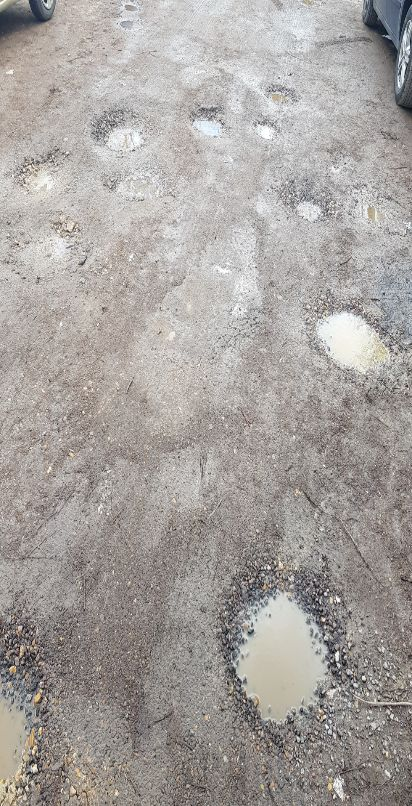pothole: (214, 559, 351, 747), (0, 602, 71, 788), (301, 300, 405, 390), (86, 101, 157, 157), (13, 139, 70, 200), (279, 184, 331, 235), (186, 105, 232, 136), (247, 111, 284, 141), (268, 83, 298, 112)
